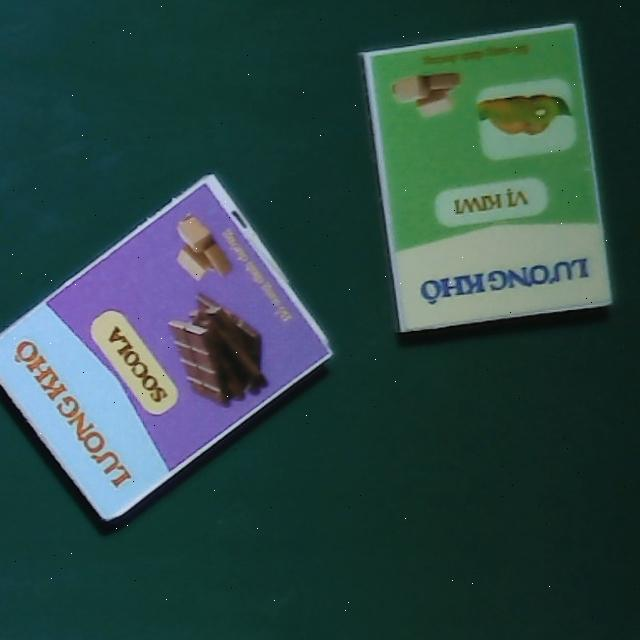kiwi: (362, 25, 613, 334)
socola: (0, 171, 343, 527)
